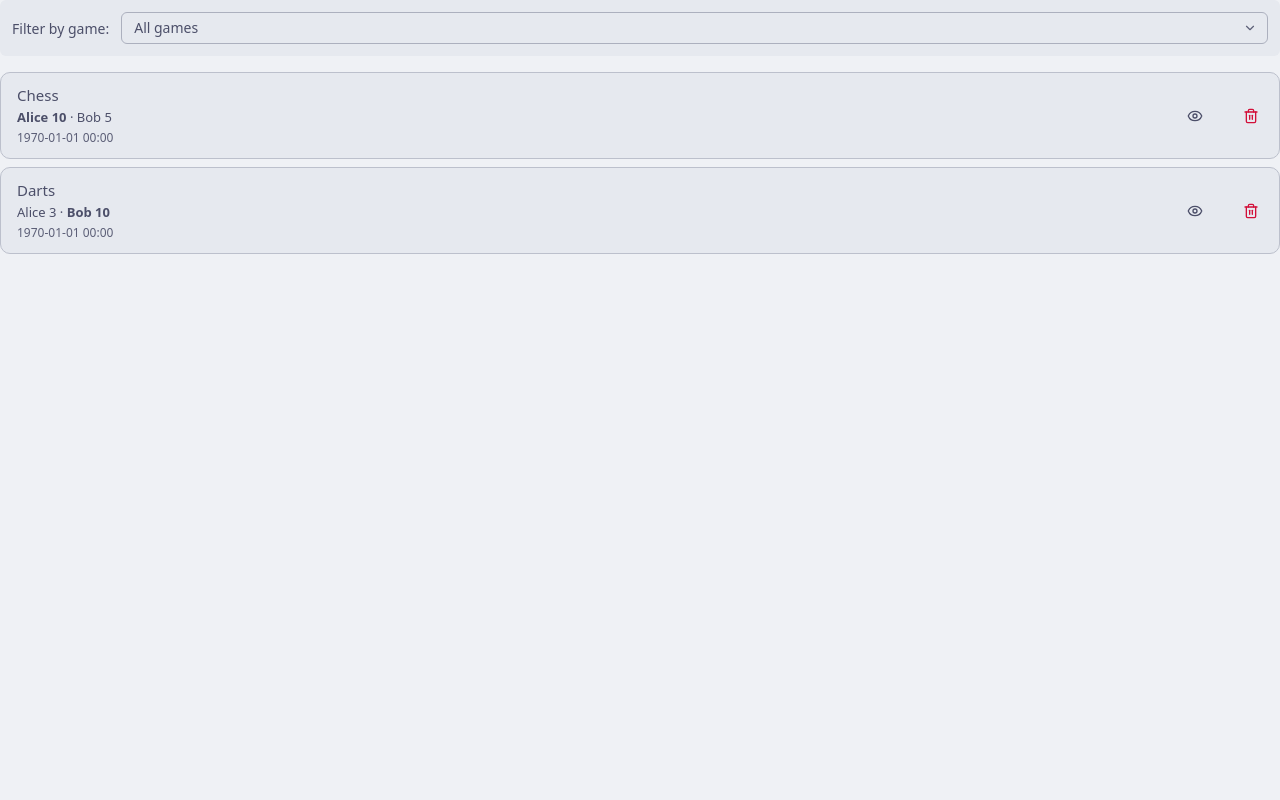
Test case: HistoryScreen › translates the delete confirmation modal
The image size is (1280, 800).
What coordinates should you click on to do the following:
click the button named "Delete" in the row of "Bob 5"
I would click on:
 (1251, 116)
Its box is [1223,73,1279,158].
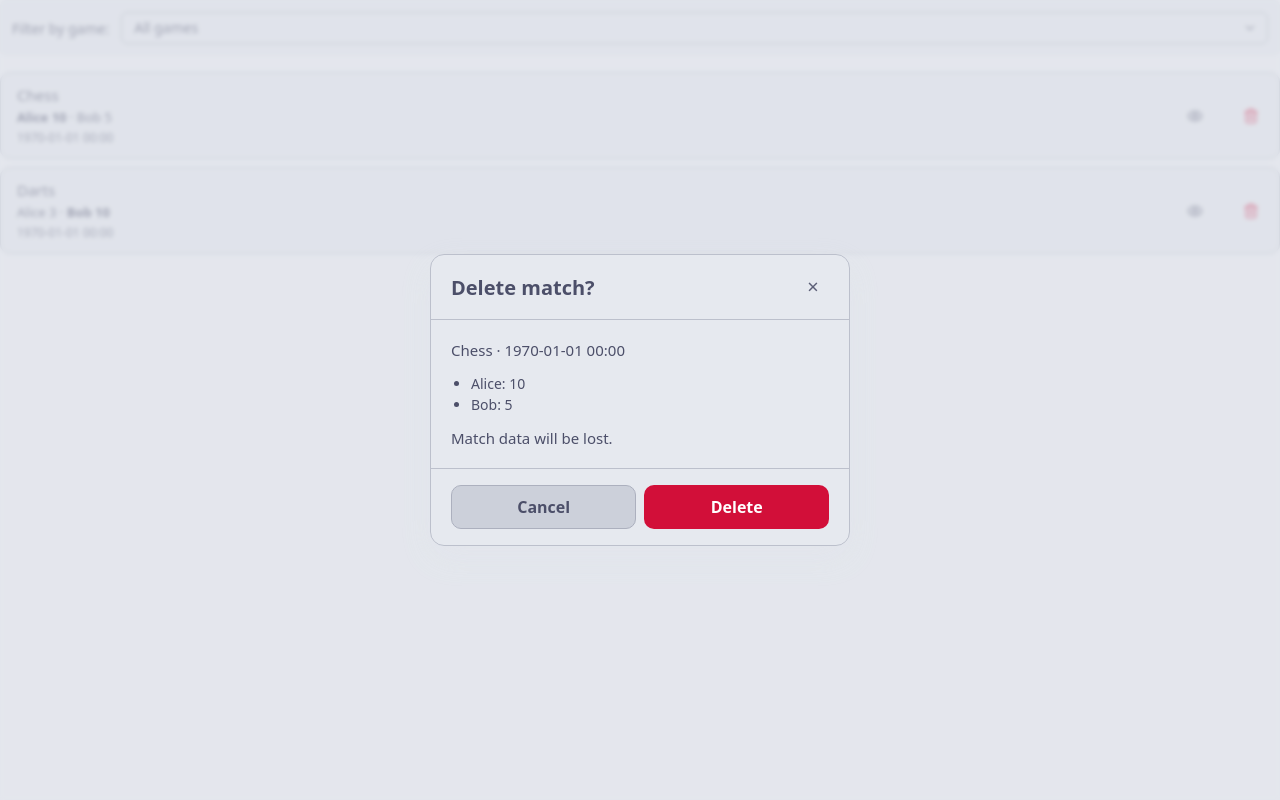
Expected: the heading "Delete match?" is shown, [451,274,595,300]
Expected: the text "Match data will be lost." is shown, [451,428,613,448]
Expected: the button "Cancel" is shown, [451,485,636,529]
